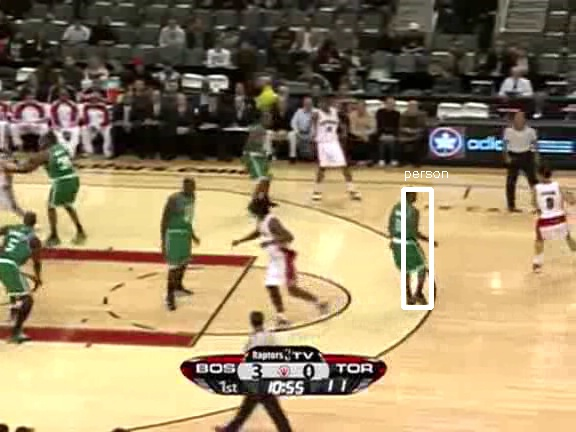person: (387, 201, 421, 282), (386, 201, 420, 282), (388, 201, 422, 282), (387, 200, 421, 281), (387, 202, 421, 283)
target_negative: (121, 4, 326, 149), (55, 353, 522, 384), (376, 278, 523, 362), (461, 291, 551, 395), (275, 319, 372, 338), (48, 407, 74, 428)
